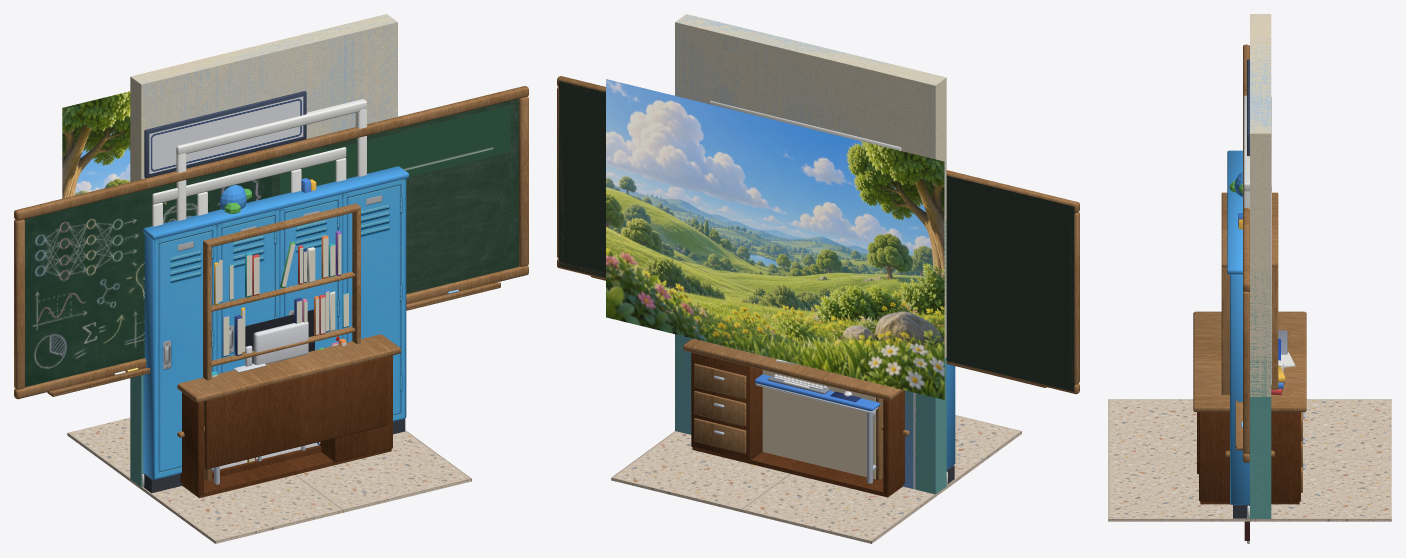
Rendered from school-kit.glb.
3 renders of one model, left to right at view 1: azimuth 30°, elevation 25°; view 2: azimuth 150°, elevation 25°; view 3: azimuth 270°, elevation 25°, orthographic. The views are drawn at different scales.
Visible parts, largest first — view 1: Board, Corridor_Wall, TeacherDesk, Corridor_Door, Corridor_Floor, Wall_Window, Bookshelf, BoardTitle, Wall_Door, NamePlate, Workstation, Wall; view 2: Wall_Window, Board, Corridor_Door, Corridor_Floor, TeacherDesk, Bookshelf, Corridor_Wall, Wall_Door, Workstation, Wall; view 3: Corridor_Floor, TeacherDesk, Corridor_Door, Corridor_Wall, Bookshelf, Board, Wall_Window, Wall_Door.
Boxes of the visible parts, x1,y1,x2,y2 form: Board: (14, 86, 528, 399); Corridor_Wall: (130, 14, 408, 493); TeacherDesk: (177, 334, 400, 498); Corridor_Door: (130, 14, 397, 487); Corridor_Floor: (67, 417, 471, 543); Wall_Window: (62, 16, 397, 220); Bookshelf: (203, 178, 360, 481); BoardTitle: (280, 105, 510, 194); Wall_Door: (132, 16, 397, 479); NamePlate: (149, 96, 303, 173); Workstation: (204, 309, 314, 484); Wall: (142, 22, 397, 471); Wall_Window: (606, 16, 946, 487); Board: (557, 76, 1079, 394); Corridor_Door: (675, 14, 947, 494); Corridor_Floor: (611, 415, 1021, 543); TeacherDesk: (683, 338, 904, 497); Bookshelf: (762, 370, 883, 480); Corridor_Wall: (675, 14, 955, 493); Wall_Door: (675, 15, 943, 493); Workstation: (755, 374, 883, 483); Wall: (675, 22, 935, 490); Corridor_Floor: (1108, 399, 1391, 521); TeacherDesk: (1193, 311, 1306, 504); Corridor_Door: (1247, 14, 1271, 518); Corridor_Wall: (1227, 14, 1271, 518); Bookshelf: (1221, 172, 1278, 394); Board: (1235, 44, 1249, 462); Wall_Window: (1243, 14, 1271, 384); Wall_Door: (1250, 14, 1271, 133).
Size of the model in its own units: 4 by 3.5 by 2.
108 materials, 23 textured.
